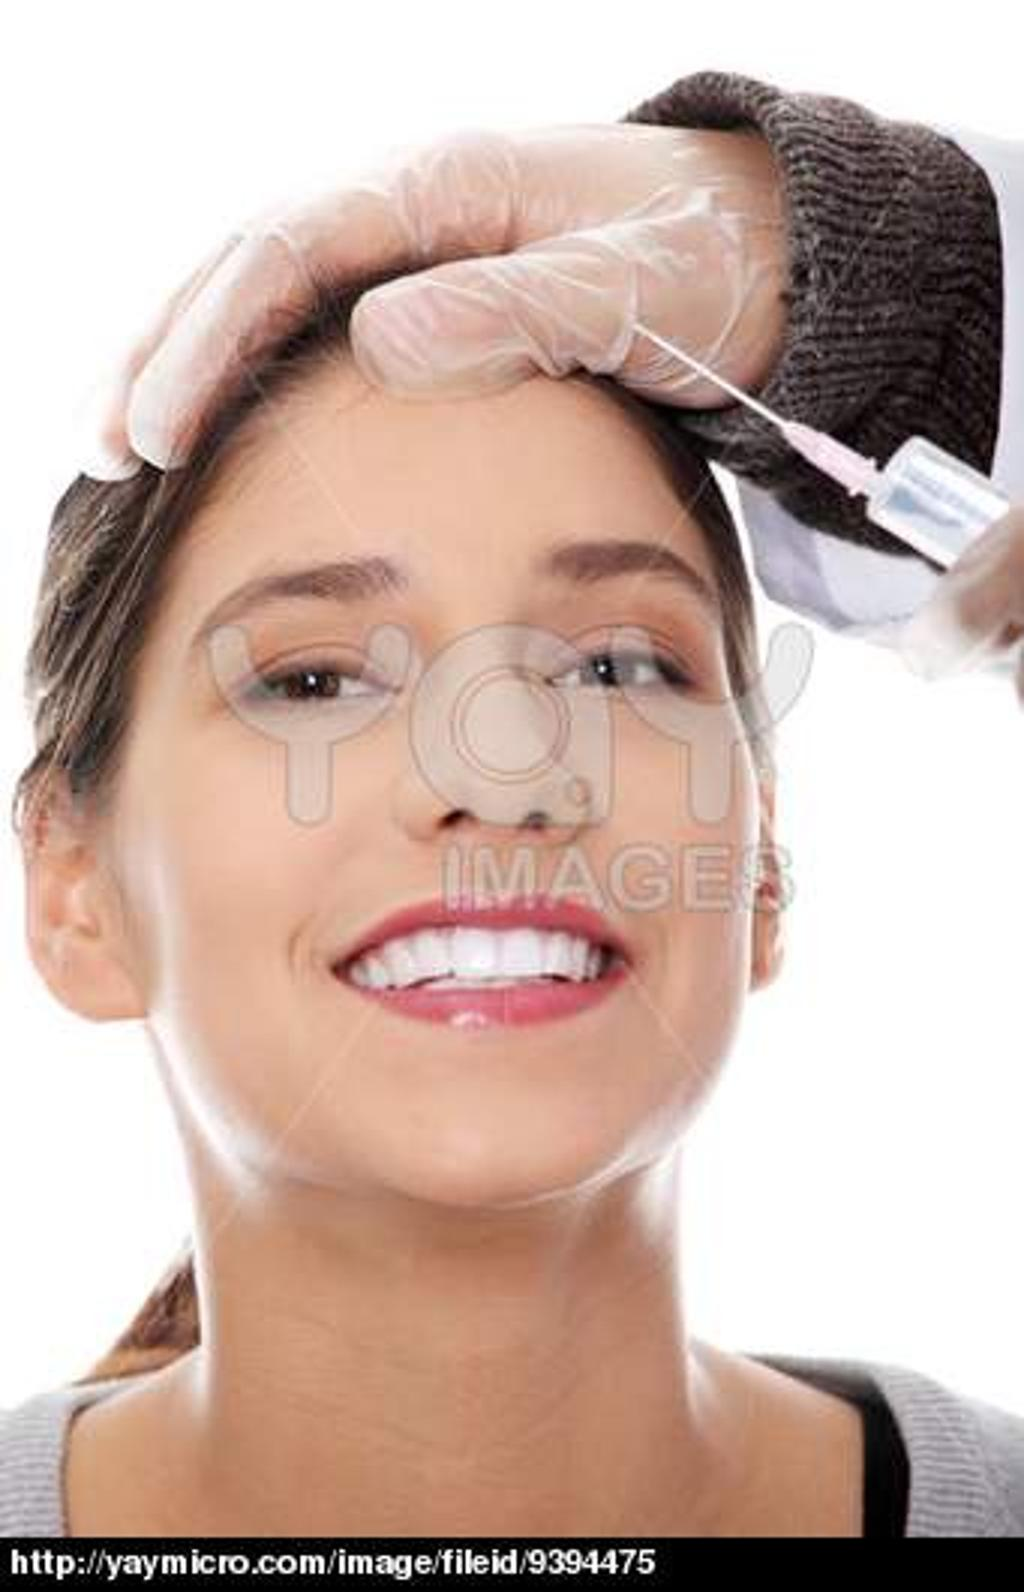face: (115, 402, 766, 1211)
